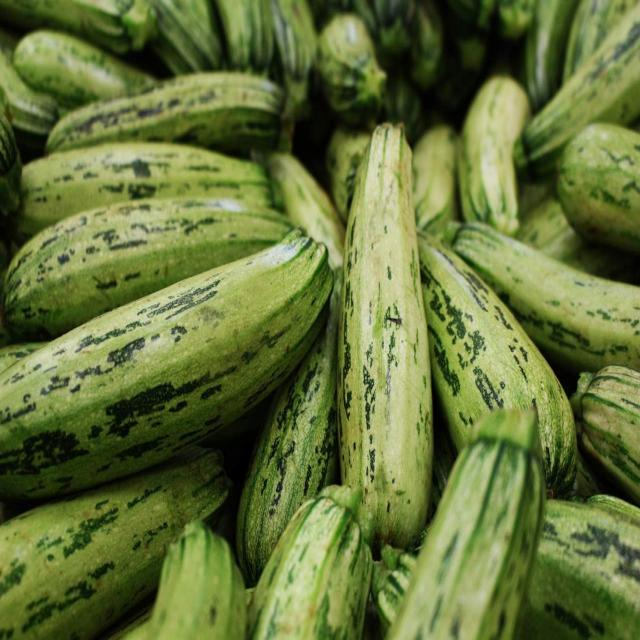Zucchini: (346, 125, 435, 544)
